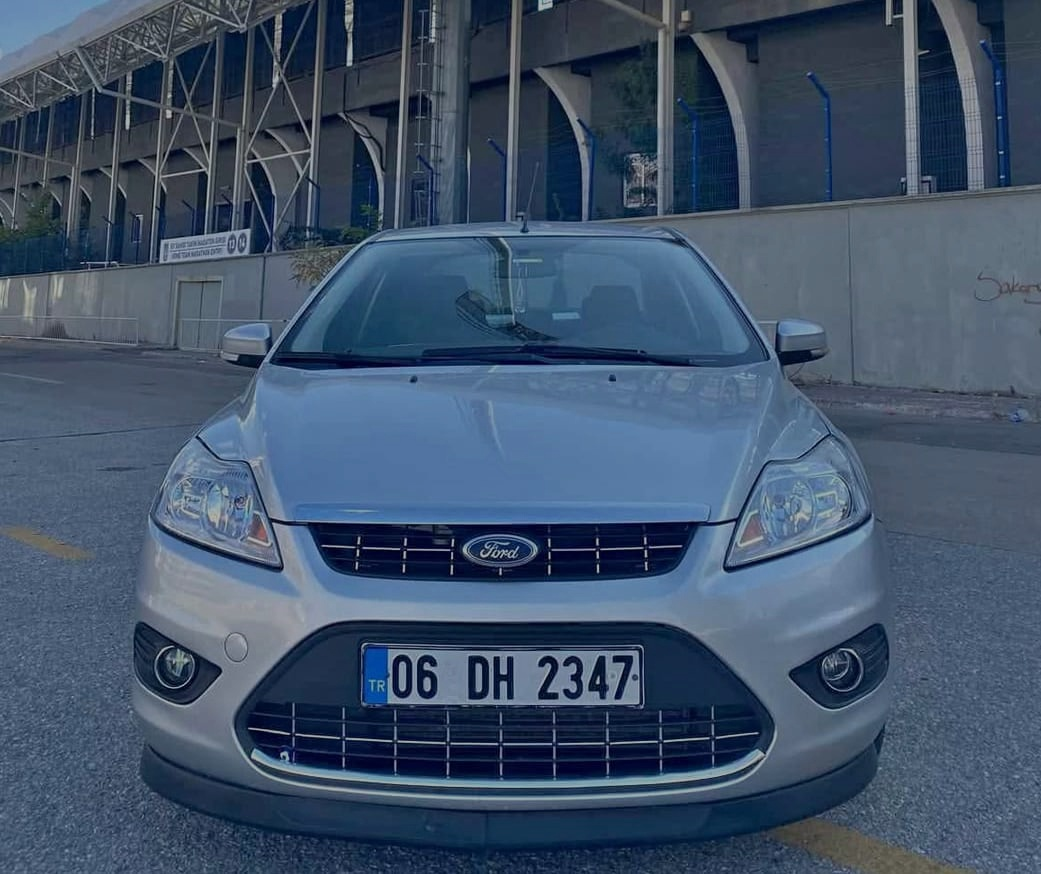plaka: (384, 649, 646, 707)
